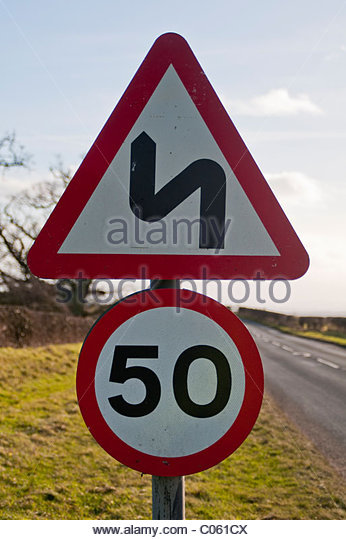Speed_limit_50km: (73, 288, 264, 475)
